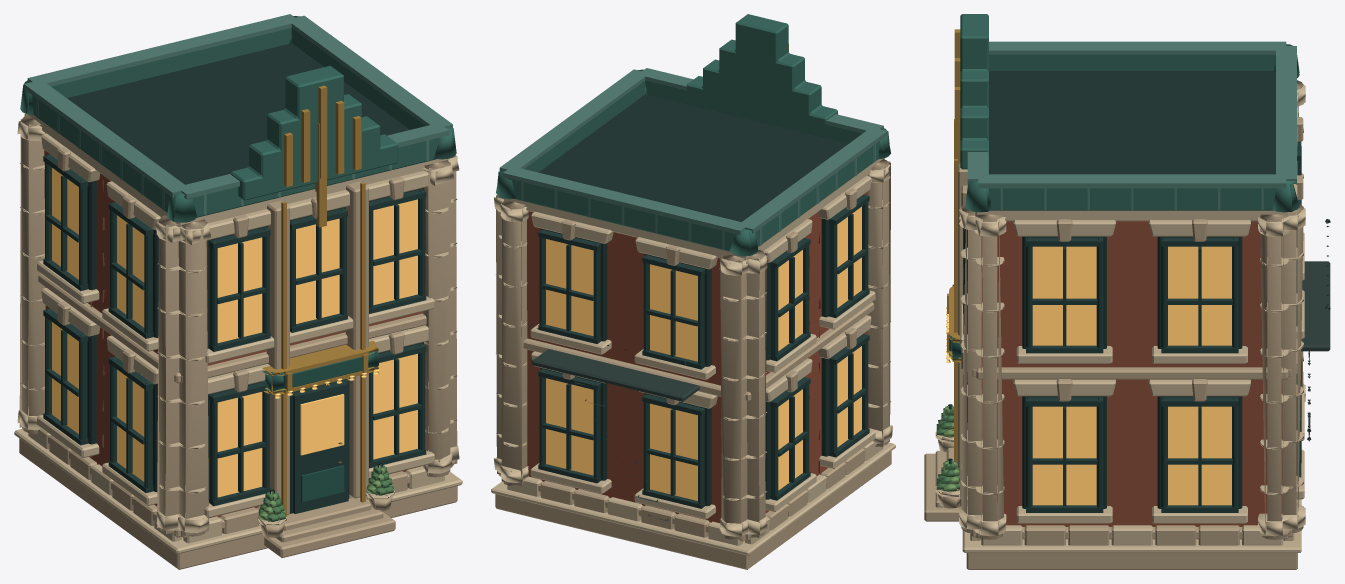
3 renders of one model, left to right at view 1: azimuth 30°, elevation 25°; view 2: azimuth 150°, elevation 25°; view 3: azimuth 270°, elevation 25°, orthographic. The views are drawn at different scales.
Visible parts, largest first — view 1: expansion_tower_2_geometry; view 2: expansion_tower_2_geometry; view 3: expansion_tower_2_geometry.
Part boxes in pixels (box(x1,y1,x2,y2)): expansion_tower_2_geometry: box(14, 14, 462, 569); expansion_tower_2_geometry: box(491, 14, 895, 569); expansion_tower_2_geometry: box(924, 14, 1330, 569).
Bounding box in the file's own units: 0.7829 × 1.16 × 0.8995.
